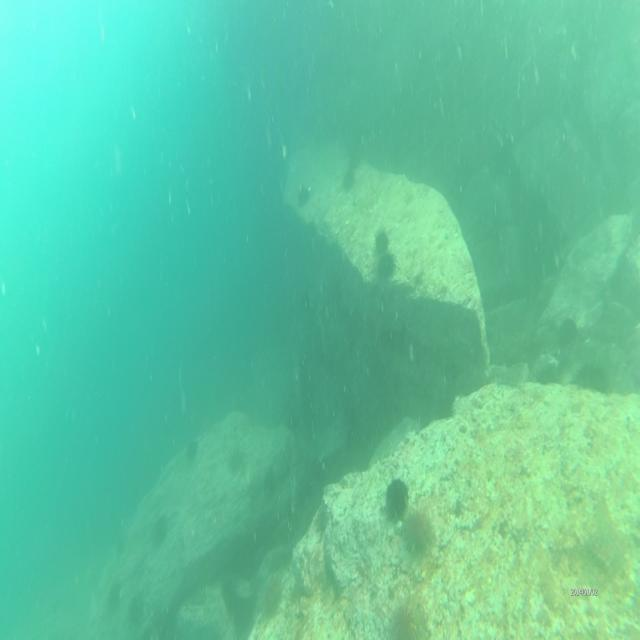echinus: (392, 600, 430, 640), (402, 514, 436, 556), (576, 362, 606, 398), (384, 478, 410, 516), (260, 574, 280, 620), (535, 363, 563, 388), (558, 313, 580, 342), (375, 255, 396, 280), (106, 579, 123, 606), (227, 446, 246, 470), (127, 600, 144, 624), (151, 522, 167, 546), (184, 437, 200, 460), (372, 232, 389, 251), (297, 188, 307, 209), (348, 148, 361, 164), (342, 173, 353, 191)
